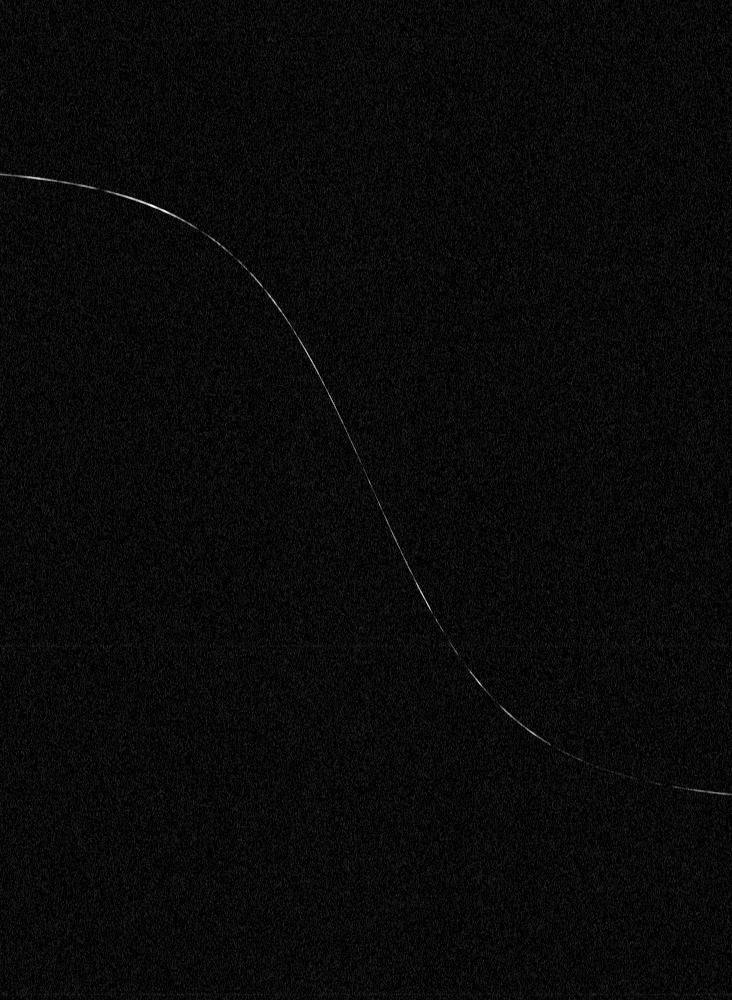signal: (0, 0, 731, 999)
